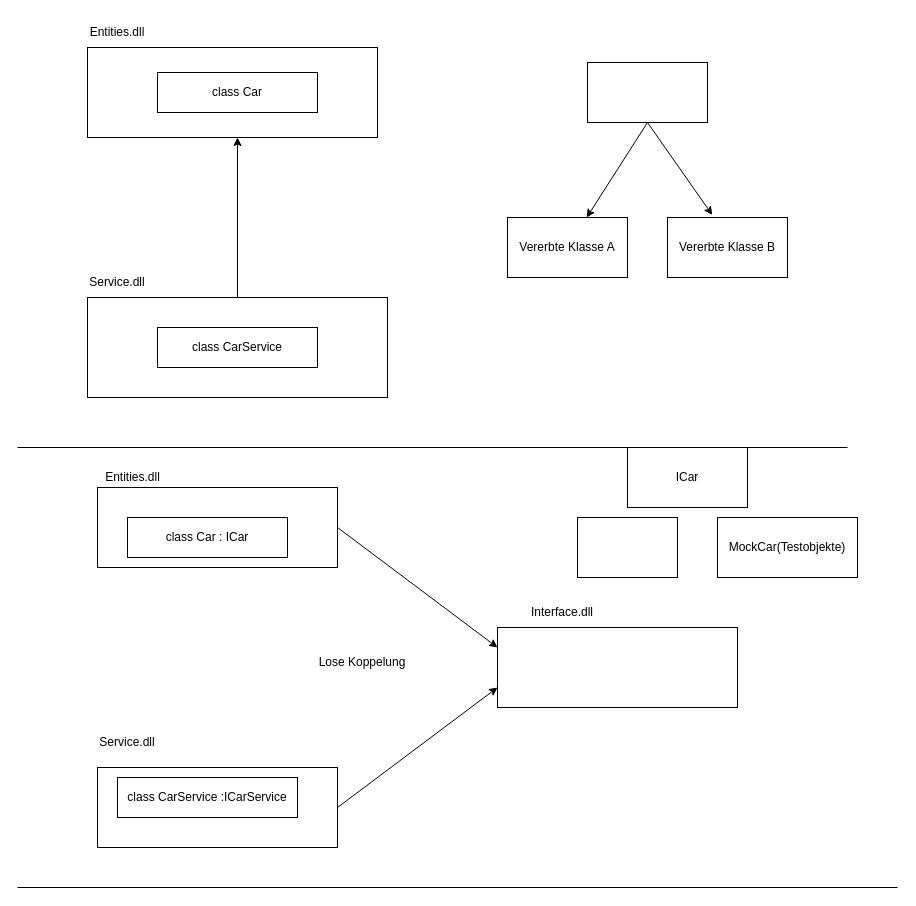
This 916x906 diagram has some shape labels left out. The shapes that lost their labels are listed below. From the top down, each one's centre as x and y in pixels, then its label:
At (647,92): "Car".
At (627,547): "Car (Produktiv)".
At (617,667): "ICar / ICarService.cs".
